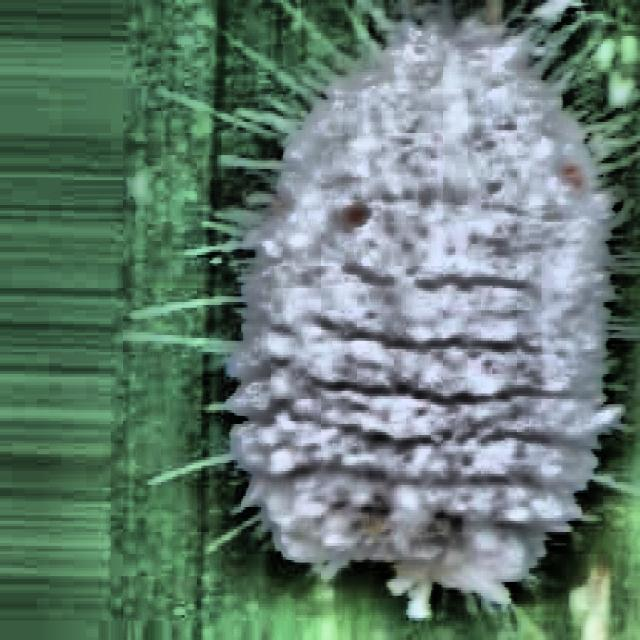Mealy-bug: (171, 8, 640, 638)
